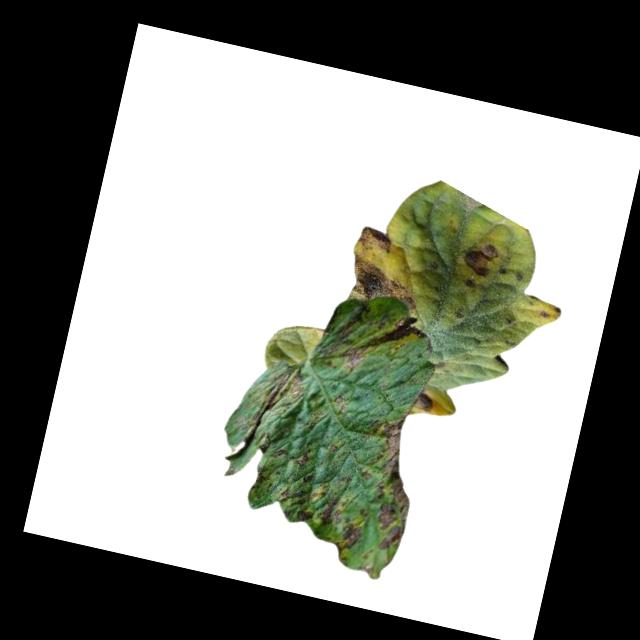Early_blight: (354, 411, 432, 556), (338, 304, 426, 385), (344, 254, 426, 315), (273, 474, 350, 529), (459, 238, 500, 281), (355, 225, 401, 256), (334, 521, 361, 555), (410, 391, 436, 417), (462, 277, 477, 291)
